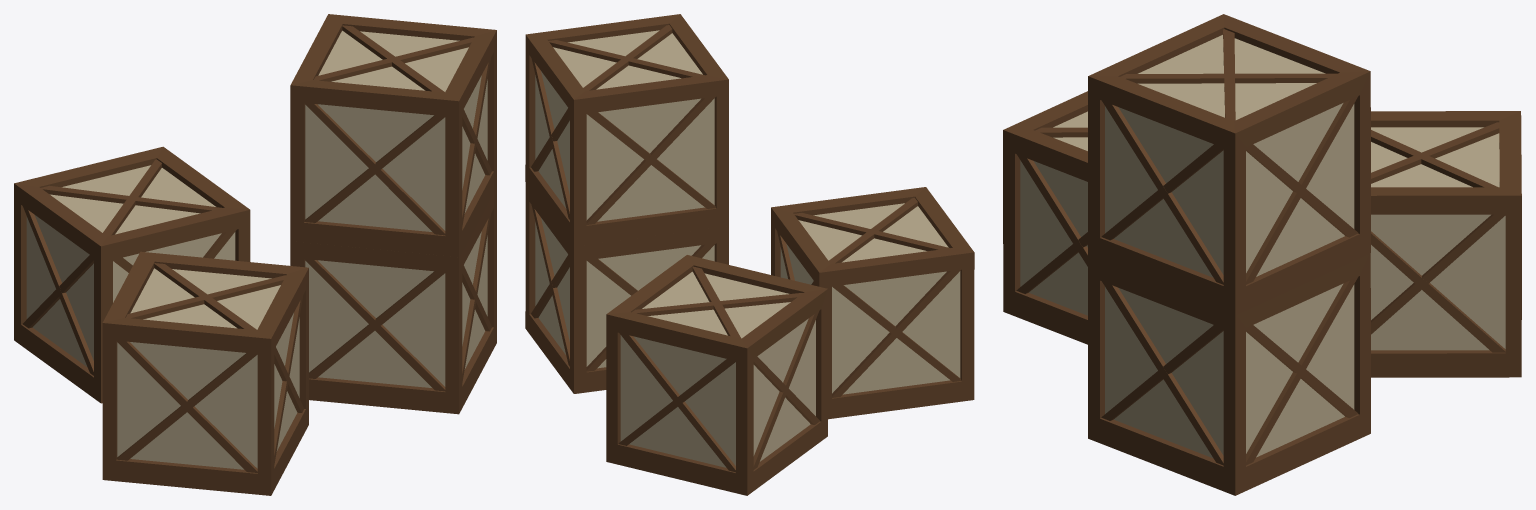
File: Wooden_Boxes__003.fbx
3 renders of one model, left to right at view 1: azimuth 30°, elevation 25°; view 2: azimuth 150°, elevation 25°; view 3: azimuth 270°, elevation 25°, orthographic. The views are drawn at different scales.
Visible parts, largest first — view 1: Wooden box-3; view 2: Wooden box-3; view 3: Wooden box-3.
Part boxes in pixels (x1=…): Wooden box-3: x1=14, y1=14, x2=496, y2=495; Wooden box-3: x1=525, y1=14, x2=974, y2=495; Wooden box-3: x1=1003, y1=14, x2=1521, y2=495.
Size of the model in its own units: 3.07 by 2.11 by 2.73.
